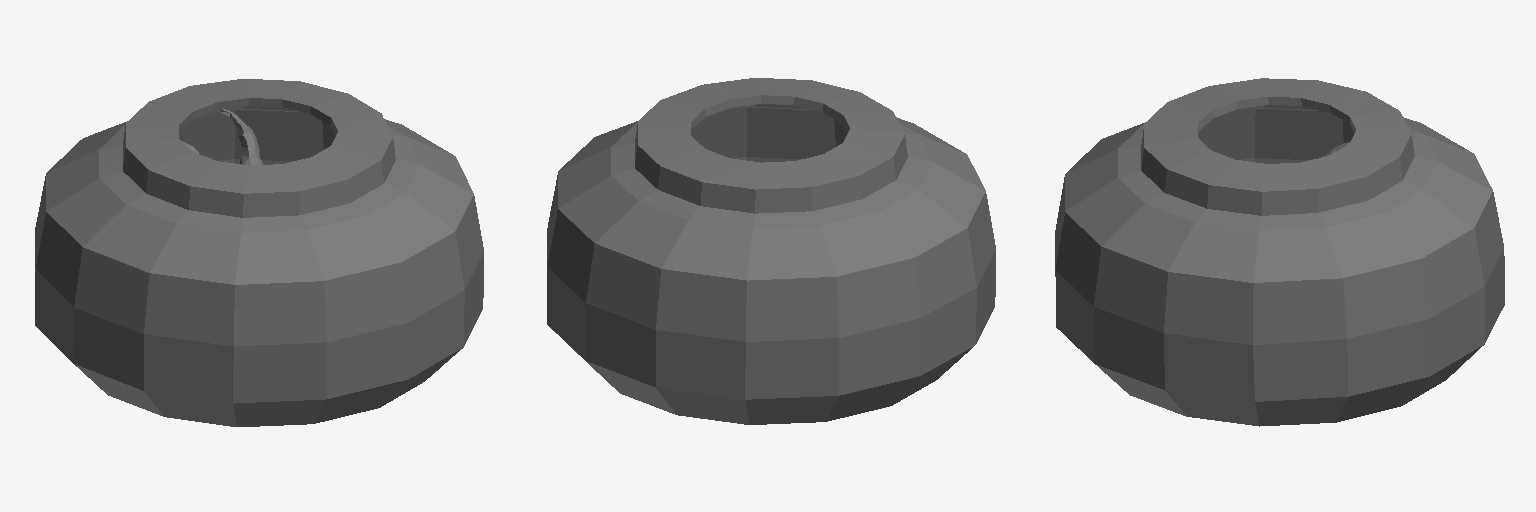
File: Sea+Fishbowl.obj
The picture shows the model from 3 angles: view 1: azimuth 30°, elevation 25°; view 2: azimuth 150°, elevation 25°; view 3: azimuth 270°, elevation 25°; orthographic projection.
Parts seen in each view (by area): view 1: nurbsToPoly2, SeaDragonforFishBowl:polySurface2; view 2: nurbsToPoly2; view 3: nurbsToPoly2.
Boxes of the visible parts, x1,y1,x2,y2 form: nurbsToPoly2: [35, 79, 483, 426]; SeaDragonforFishBowl:polySurface2: [182, 109, 262, 165]; nurbsToPoly2: [547, 78, 995, 424]; nurbsToPoly2: [1055, 78, 1504, 426].
Size of the model in its own units: 33.2 by 20.4 by 33.03.